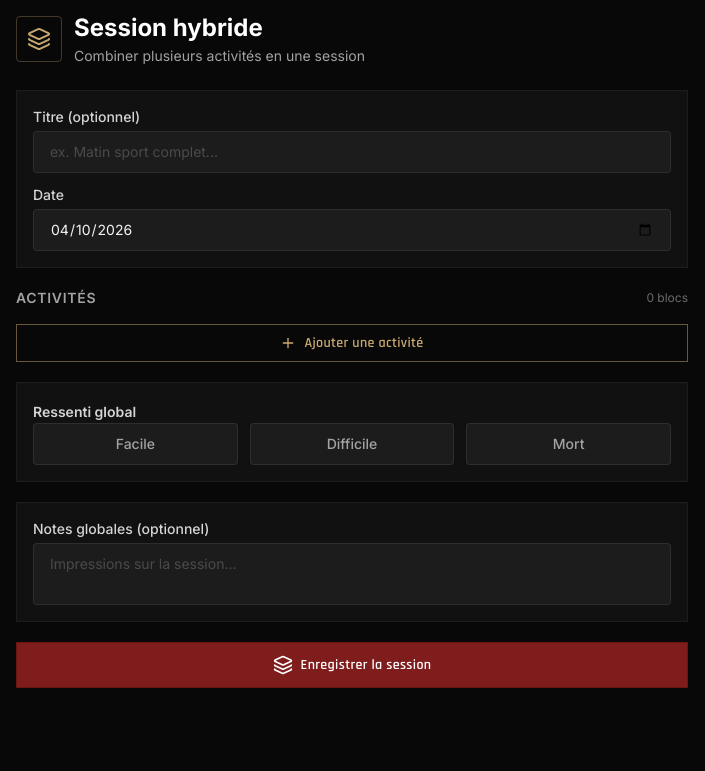
Scenario: HybridSessionPage › Validation soumission › affiche une erreur si moins de 2 blocs au submit
Click the button "Enregistrer la session" at point(352, 665), box x1=16 y1=642 x2=688 y2=688
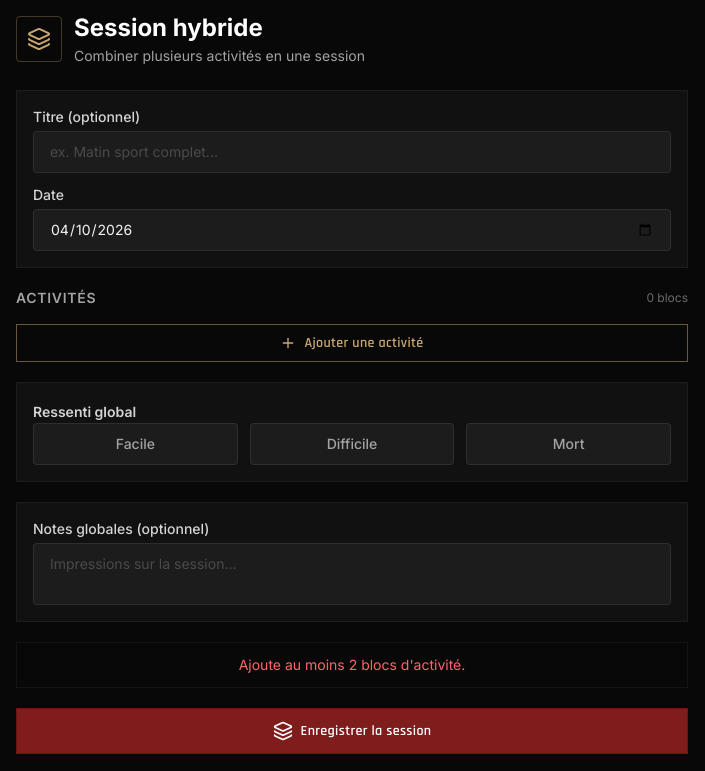
Result: the text "Ajoute au moins 2 blocs d'activité." is shown at x1=239 y1=656 x2=465 y2=673
